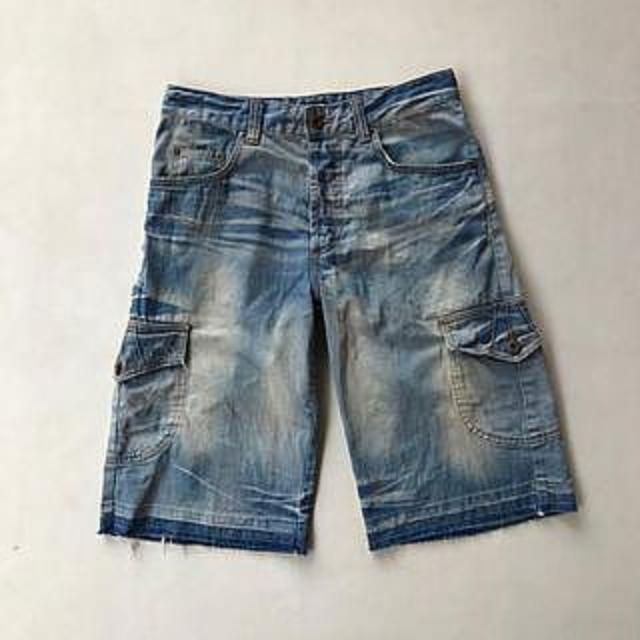TROUSER: (93, 60, 593, 567)
